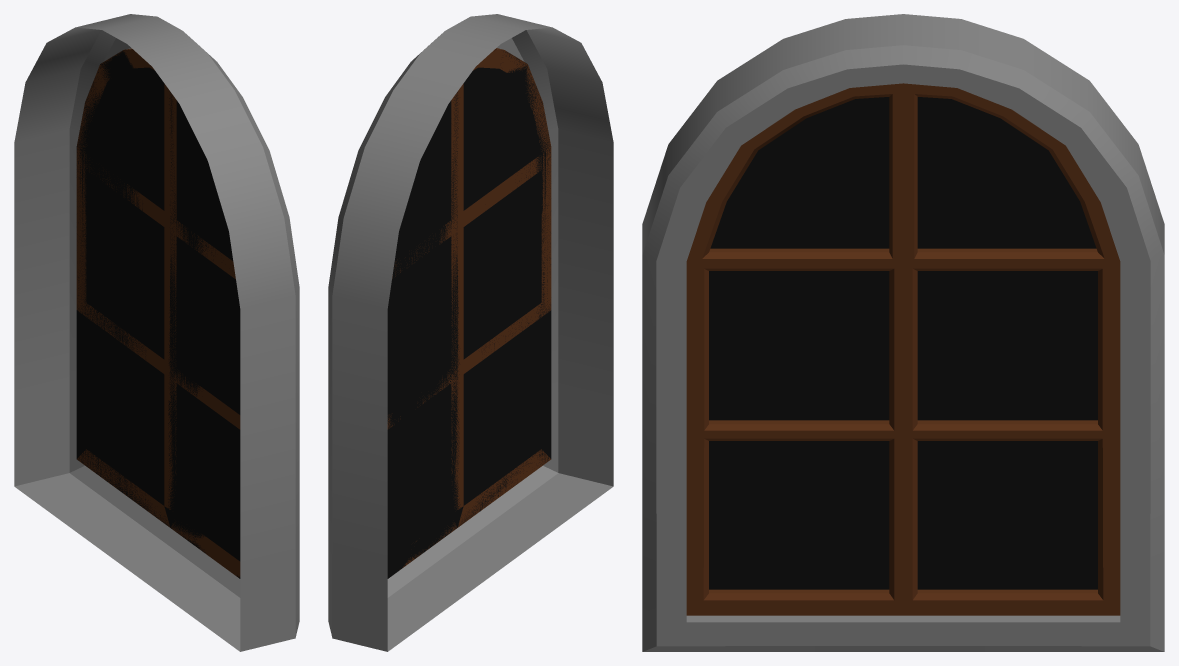
The model's file is Window_short.fbx.
The picture shows the model from 3 angles, left to right: view 1: azimuth 30°, elevation 25°; view 2: azimuth 150°, elevation 25°; view 3: azimuth 270°, elevation 25°; orthographic projection. The views are drawn at different scales.
Visible parts, largest first — view 1: Window_short; view 2: Window_short; view 3: Window_short.
Boxes of the visible parts, x1,y1,x2,y2 form: Window_short: [14, 14, 299, 651]; Window_short: [328, 14, 613, 651]; Window_short: [642, 14, 1164, 651].
Size of the model in its own units: 12.59 by 96.35 by 75.16.
